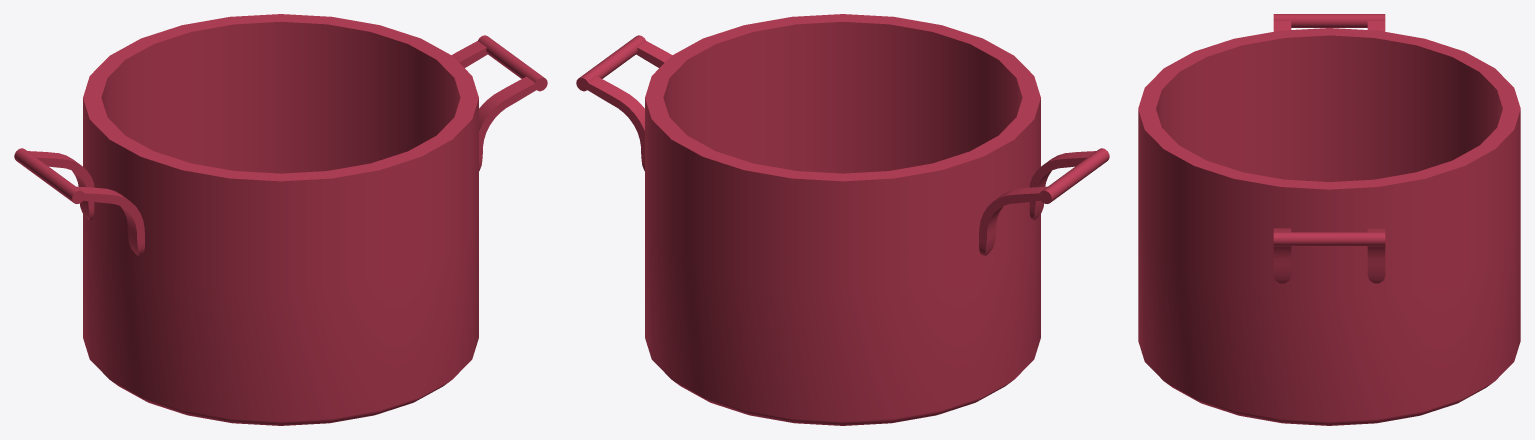
File: cooker.glb
3 renders of one model, left to right at view 1: azimuth 30°, elevation 25°; view 2: azimuth 150°, elevation 25°; view 3: azimuth 270°, elevation 25°, orthographic. The views are drawn at different scales.
Parts seen in each view (by area): view 1: CookingPot; view 2: CookingPot; view 3: CookingPot.
Boxes of the visible parts, <box> form: CookingPot: <box>14,14,547,425</box>; CookingPot: <box>576,14,1109,425</box>; CookingPot: <box>1138,14,1520,425</box>.
Bounding box in the file's own units: 0.9012 × 0.451 × 0.65.
